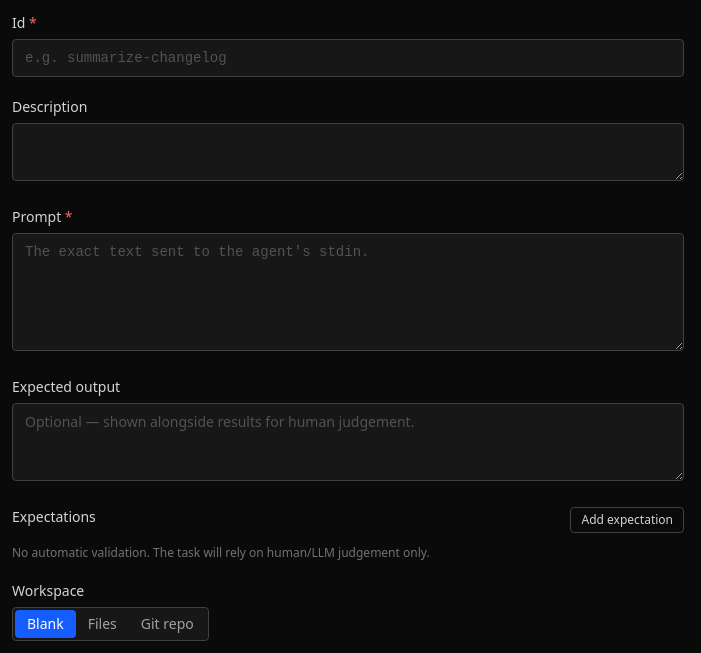
Test case: TaskForm › choosing git_repo reveals path and ref fields
Expected: the field labelled "repo path" is not shown
Click the button "Git repo": (167, 624) [129,610,206,638]
(page scrolled)
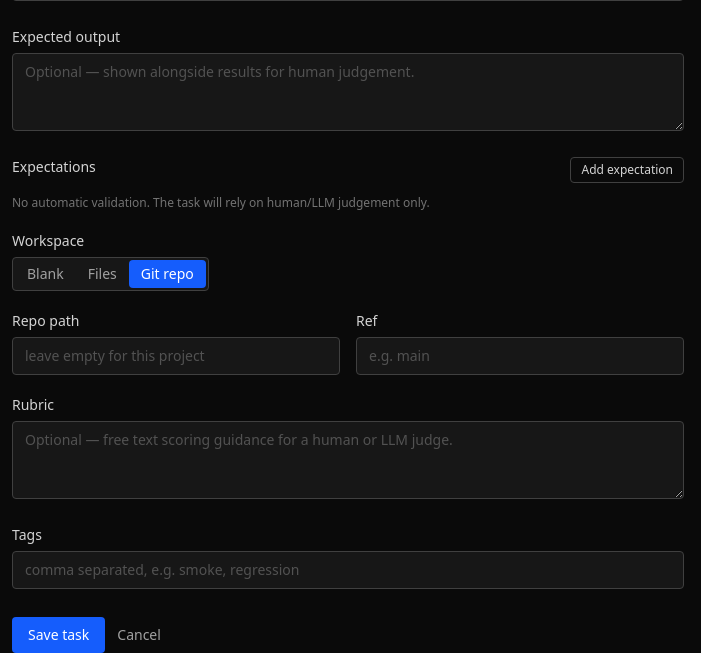
Expected: the field labelled "Repo path" is shown, [12,337,340,375]
Expected: the field labelled "Ref" is shown, [356,337,684,375]
